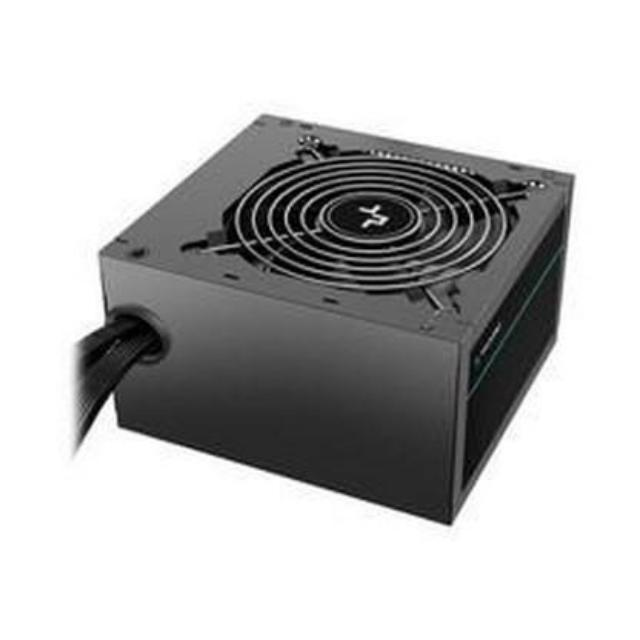PSU: (92, 96, 584, 538)
